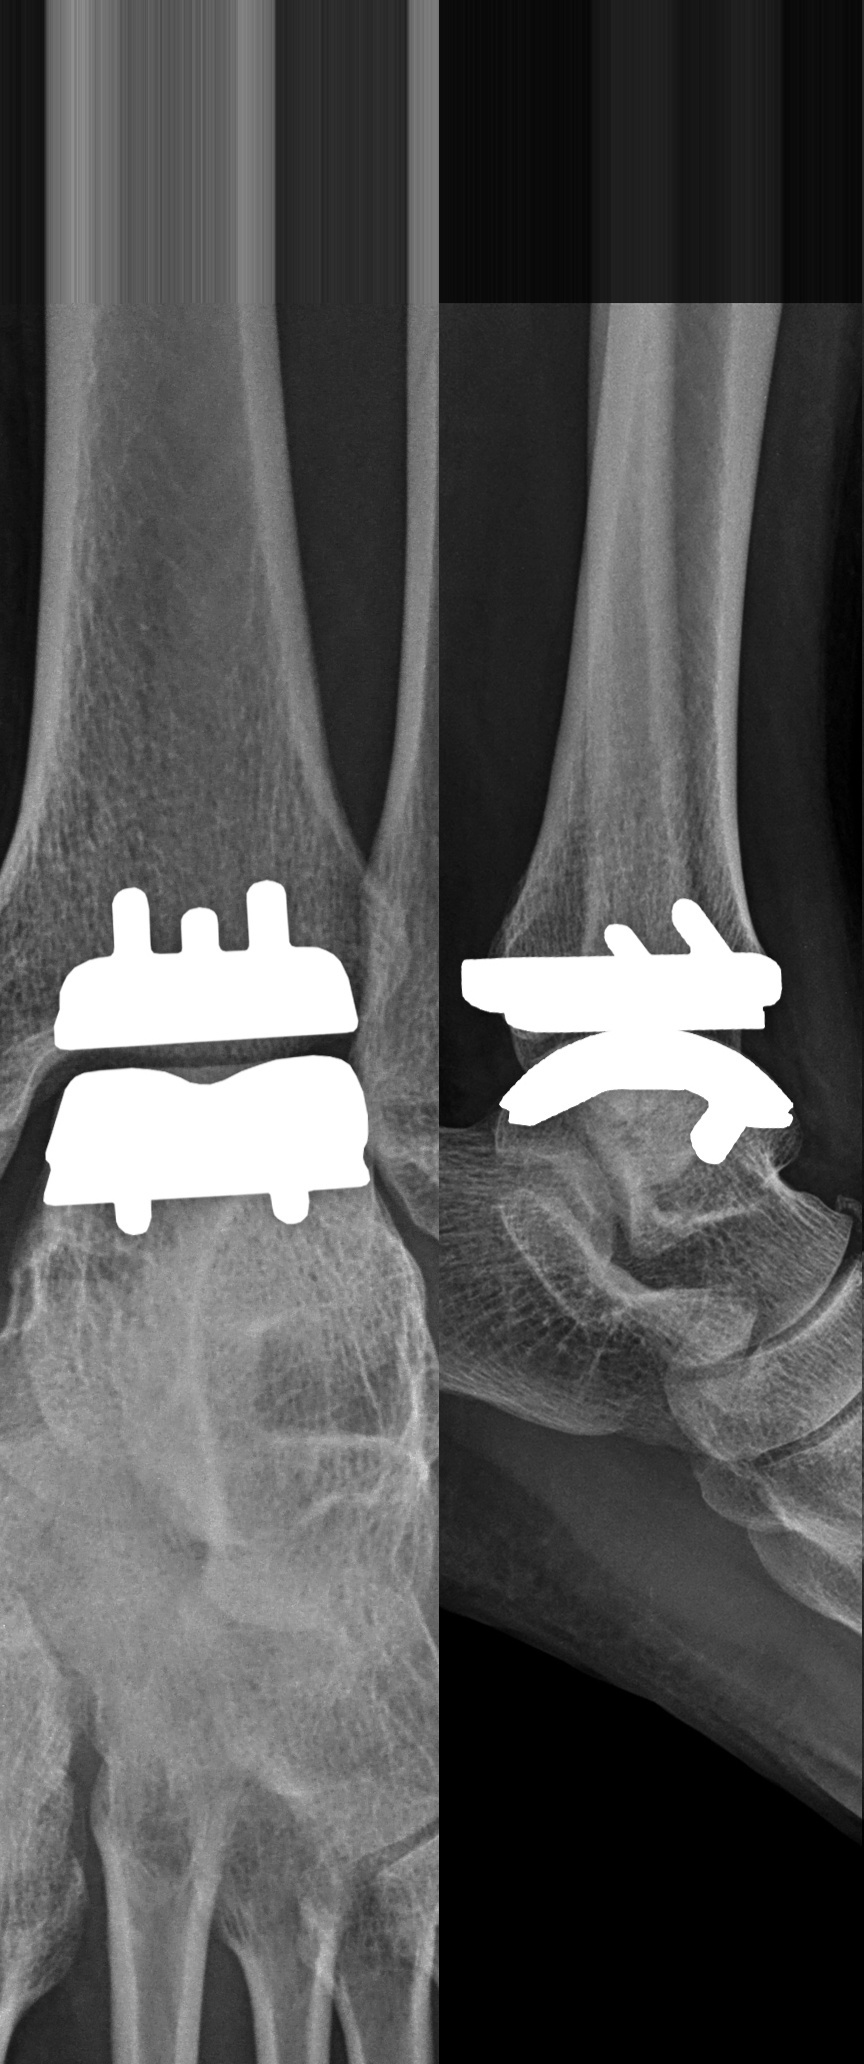Ankle - Infinity - Wright: (38, 874, 377, 1245), (448, 890, 806, 1175)
